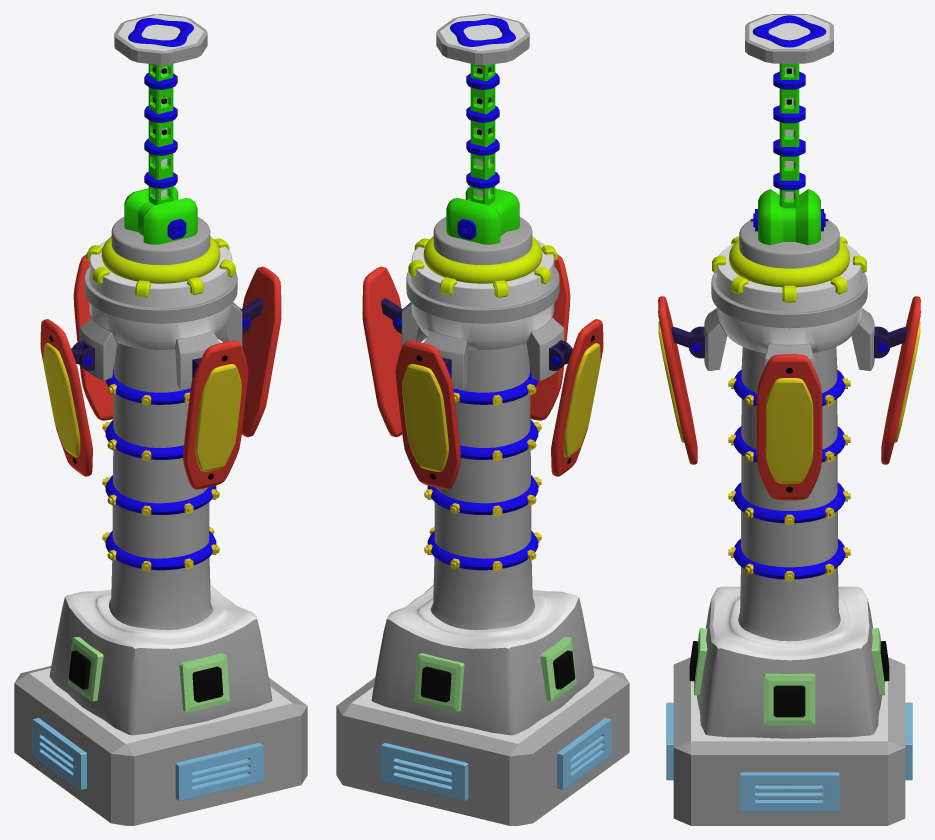
Rendered from COOLLLtower 1.fbx.
The picture shows the model from 3 angles, left to right: view 1: azimuth 30°, elevation 25°; view 2: azimuth 150°, elevation 25°; view 3: azimuth 270°, elevation 25°; orthographic projection.
Parts seen in each view (by area): view 1: Circle, Cube, Circle.001, Cube.029, Cube.003, Circle.004, Cube.004, Cube.008, Cube.026, Cube.023, Cube.016, Torus (+10 smaller); view 2: Circle, Cube, Circle.001, Cube.029, Cube.003, Circle.004, Cube.004, Cube.008, Cube.026, Cube.023, Cube.016, Torus (+10 smaller); view 3: Circle, Cube, Circle.001, Cube.030, Cube.003, Cube.029, Circle.004, Cube.007, Cube.026, Cube.023, Torus, Cube.016 (+13 smaller).
Boxes of the visible parts, x1,y1,x2,y2 form: Circle: (49, 343, 272, 735); Cube: (14, 666, 307, 825); Circle.001: (79, 217, 242, 389); Cube.029: (40, 266, 281, 476); Cube.003: (73, 255, 248, 489); Circle.004: (105, 367, 216, 570); Cube.004: (195, 364, 241, 471); Cube.008: (175, 743, 263, 801); Cube.026: (114, 14, 207, 65); Cube.023: (124, 186, 197, 244); Cube.016: (148, 64, 173, 205); Torus: (101, 236, 220, 283); Circle: (371, 343, 594, 735); Cube: (336, 666, 629, 825); Circle.001: (401, 217, 564, 389); Cube.029: (362, 266, 603, 476); Cube.003: (395, 255, 570, 489); Circle.004: (427, 367, 538, 570); Cube.004: (402, 364, 448, 471); Cube.008: (380, 743, 468, 801); Cube.026: (436, 14, 529, 65); Cube.023: (446, 186, 519, 244); Cube.016: (470, 64, 495, 205); Torus: (423, 236, 542, 283); Circle: (697, 347, 881, 738); Cube: (673, 657, 905, 825); Circle.001: (704, 220, 874, 370); Cube.030: (765, 378, 813, 483); Cube.003: (658, 296, 920, 464); Cube.029: (756, 354, 822, 500); Circle.004: (733, 370, 845, 579); Cube.007: (739, 772, 839, 811); Cube.026: (745, 14, 833, 63); Cube.023: (758, 189, 820, 245); Torus: (729, 239, 849, 287); Cube.016: (779, 63, 799, 208).
Bounding box in the file's own units: 360 × 1146 × 362.
